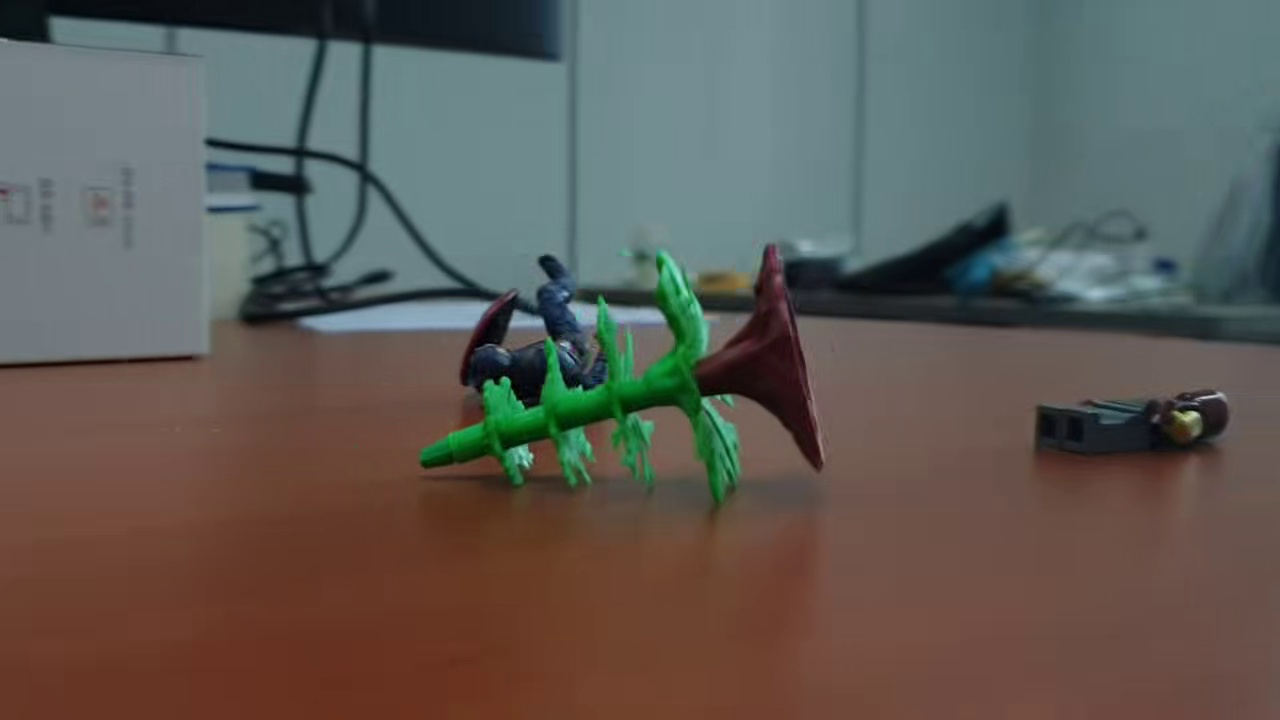people: (459, 252, 612, 411), (1033, 387, 1238, 457)
tree: (413, 237, 829, 506)
